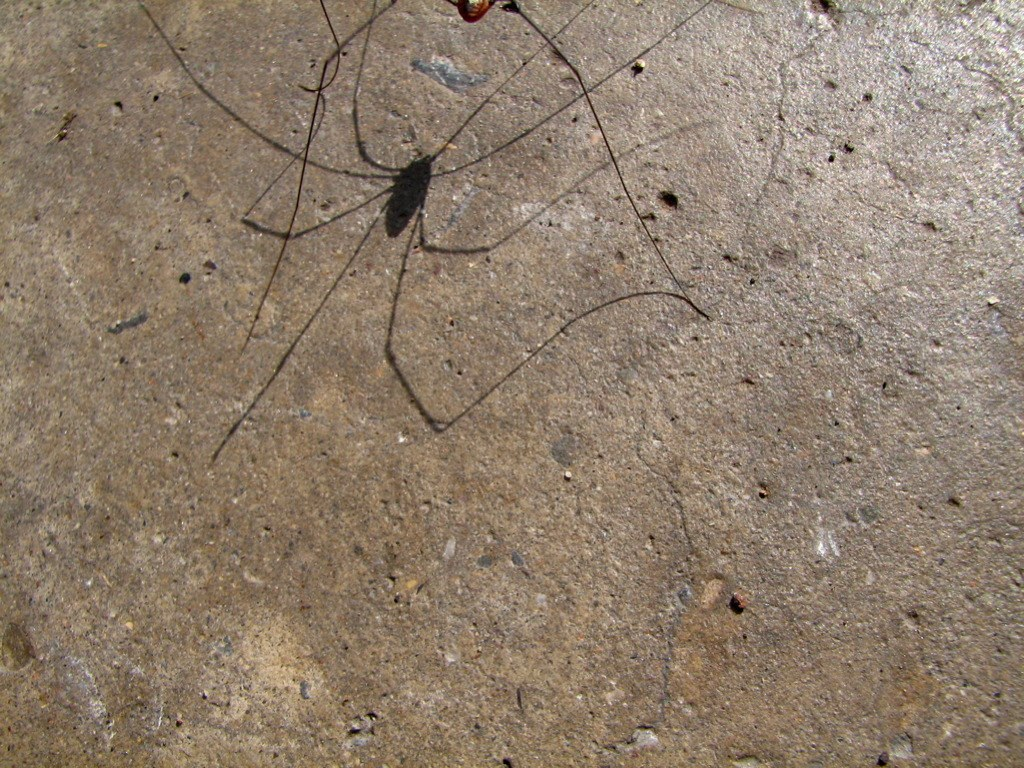insect: (132, 0, 718, 469)
